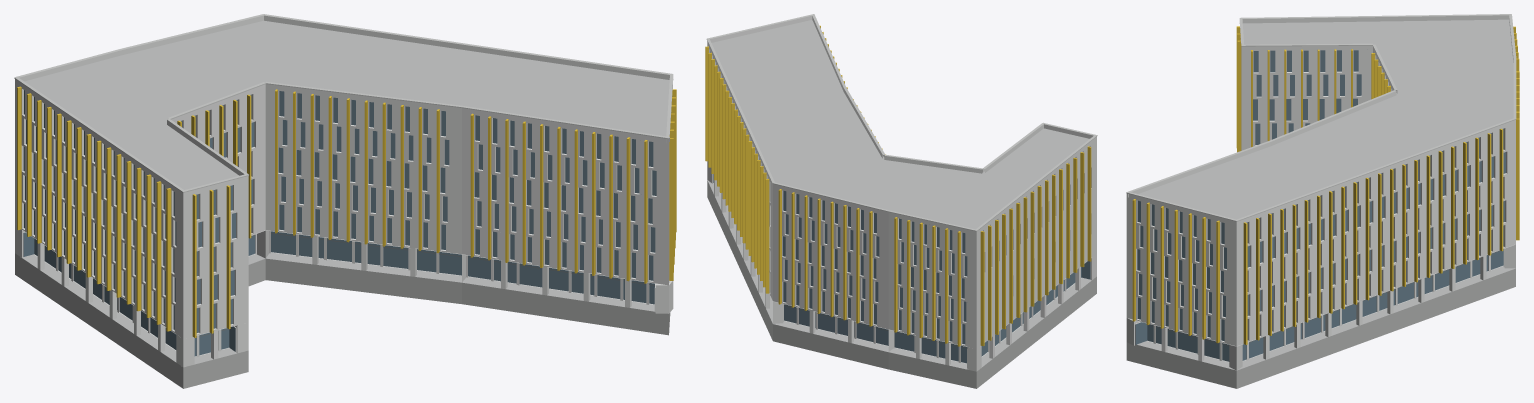
3 views of the same model, side by side, from view 1: azimuth 30°, elevation 25°; view 2: azimuth 150°, elevation 25°; view 3: azimuth 270°, elevation 25° (orthographic). The views are drawn at different scales.
Visible parts, largest first — view 1: yeoulGwanW4_1__wall, yeoulGwanW4_1__roof, yeoulGwanW4_1__louvre, yeoulGwanW4_1__glass, yeoulGwanW4_1__base, yeoulGwanW4_1__parapet, yeoulGwanW4_1__trim, yeoulGwanW4_1__column; view 2: yeoulGwanW4_1__roof, yeoulGwanW4_1__wall, yeoulGwanW4_1__louvre, yeoulGwanW4_1__glass, yeoulGwanW4_1__base, yeoulGwanW4_1__parapet, yeoulGwanW4_1__trim, yeoulGwanW4_1__column; view 3: yeoulGwanW4_1__wall, yeoulGwanW4_1__roof, yeoulGwanW4_1__louvre, yeoulGwanW4_1__glass, yeoulGwanW4_1__base, yeoulGwanW4_1__parapet, yeoulGwanW4_1__trim, yeoulGwanW4_1__column.
Part boxes in pixels (<box>): yeoulGwanW4_1__wall: <box>15,83,673,367</box>; yeoulGwanW4_1__roof: <box>22,20,669,364</box>; yeoulGwanW4_1__louvre: <box>17,86,676,337</box>; yeoulGwanW4_1__glass: <box>23,90,656,356</box>; yeoulGwanW4_1__base: <box>15,253,670,388</box>; yeoulGwanW4_1__parapet: <box>15,15,669,196</box>; yeoulGwanW4_1__trim: <box>14,14,673,192</box>; yeoulGwanW4_1__column: <box>37,236,631,359</box>; yeoulGwanW4_1__roof: <box>707,20,1091,369</box>; yeoulGwanW4_1__wall: <box>707,44,1096,371</box>; yeoulGwanW4_1__louvre: <box>705,25,1091,346</box>; yeoulGwanW4_1__glass: <box>713,174,1090,363</box>; yeoulGwanW4_1__base: <box>707,180,1096,388</box>; yeoulGwanW4_1__parapet: <box>707,16,1096,234</box>; yeoulGwanW4_1__trim: <box>706,14,1097,231</box>; yeoulGwanW4_1__column: <box>714,180,1080,365</box>; yeoulGwanW4_1__wall: <box>1126,39,1515,370</box>; yeoulGwanW4_1__roof: <box>1137,19,1515,370</box>; yeoulGwanW4_1__louvre: <box>1132,26,1519,344</box>; yeoulGwanW4_1__glass: <box>1135,50,1505,361</box>; yeoulGwanW4_1__base: <box>1126,268,1515,388</box>; yeoulGwanW4_1__parapet: <box>1126,15,1515,225</box>; yeoulGwanW4_1__trim: <box>1126,14,1516,221</box>; yeoulGwanW4_1__column: <box>1161,255,1486,361</box>.
Size of the model in its own units: 60.84 by 22.9 by 48.55.
